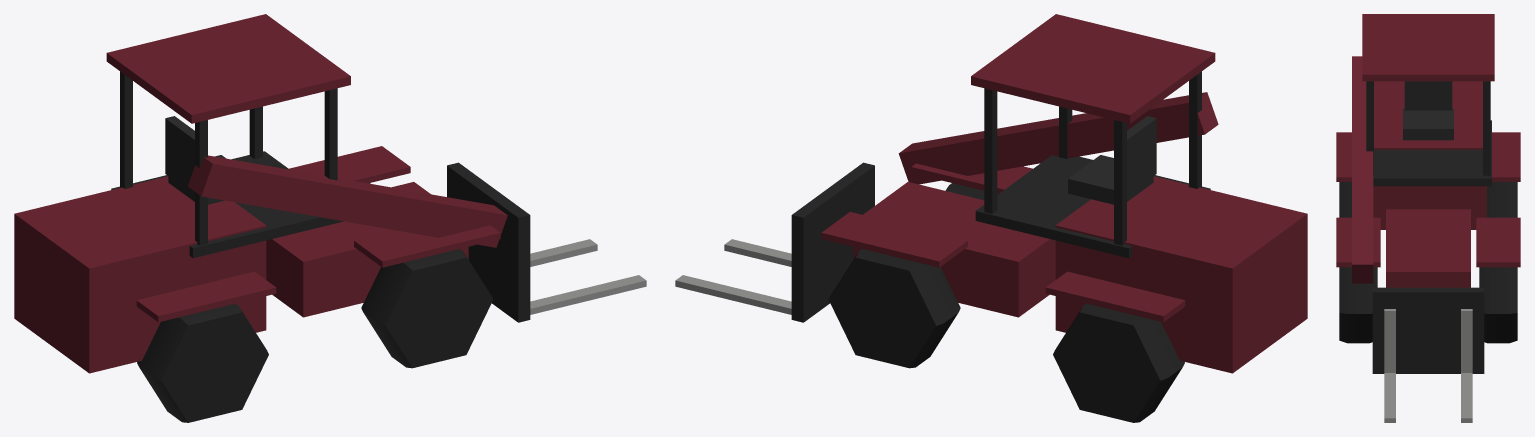
The model's file is SM_Prop_farm_loader_1_LOD2.glb.
3 views of the same model, side by side, from view 1: azimuth 30°, elevation 25°; view 2: azimuth 150°, elevation 25°; view 3: azimuth 270°, elevation 25° (orthographic). The views are drawn at different scales.
Parts seen in each view (by area): view 1: SM_Prop_farm_loader_1_LOD2; view 2: SM_Prop_farm_loader_1_LOD2; view 3: SM_Prop_farm_loader_1_LOD2.
Boxes of the visible parts, x1,y1,x2,y2 form: SM_Prop_farm_loader_1_LOD2: (14, 14, 646, 422); SM_Prop_farm_loader_1_LOD2: (675, 14, 1307, 422); SM_Prop_farm_loader_1_LOD2: (1336, 14, 1520, 422).
Size of the model in its own units: 4.8 by 2.41 by 1.74.
